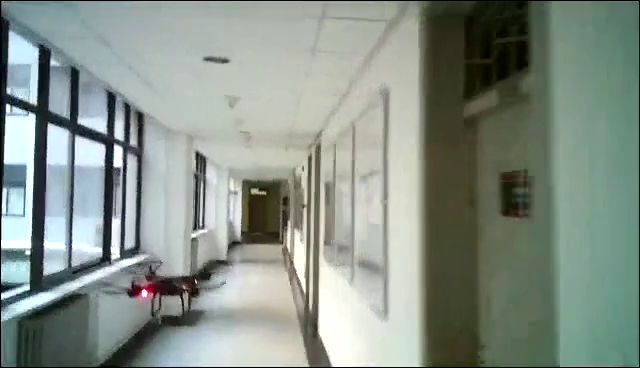drone: (95, 256, 232, 316)
